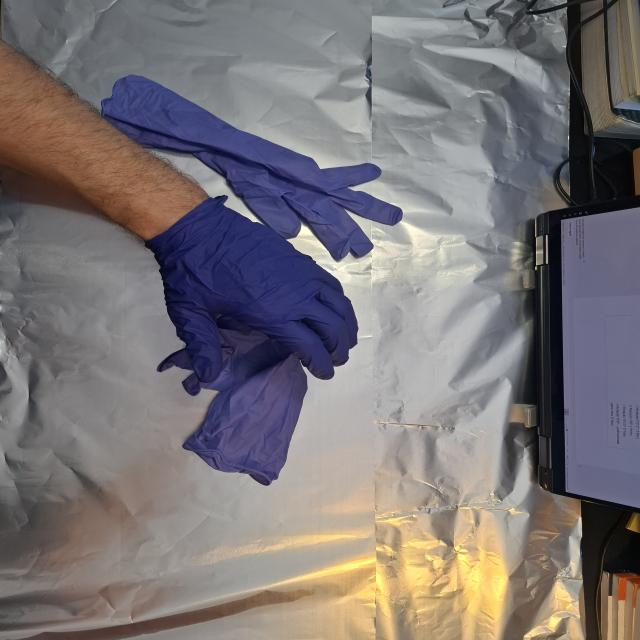glove_on: (148, 196, 364, 385)
